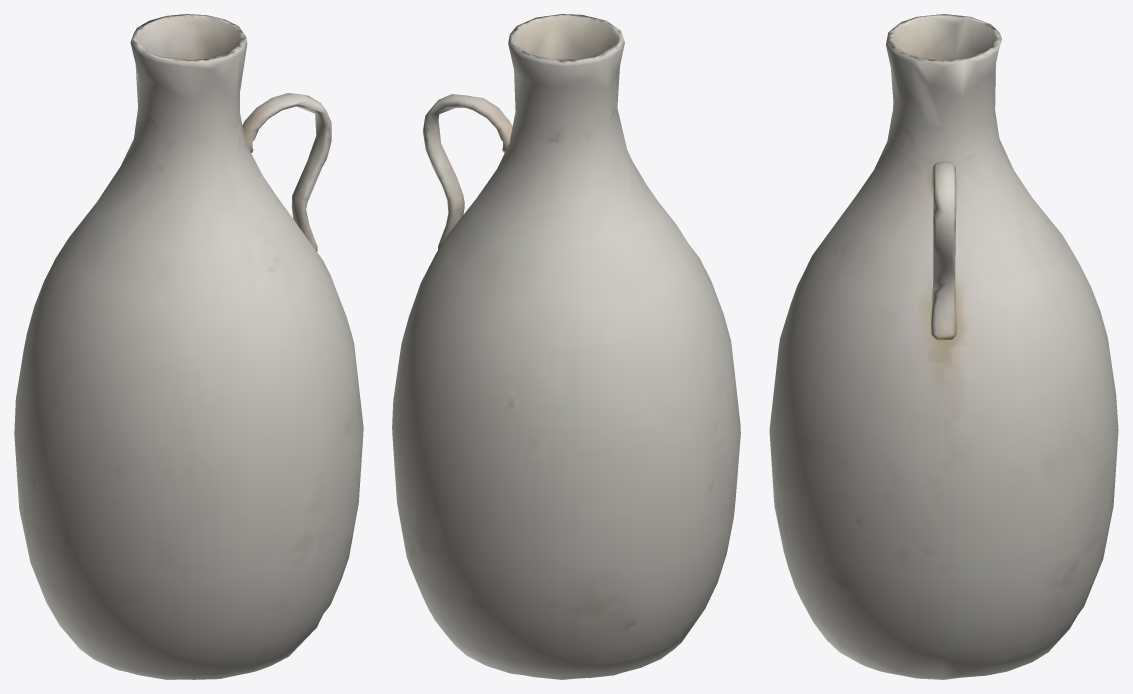
Rendered from ceramic_vase_04.glb.
The picture shows the model from 3 angles, left to right: view 1: azimuth 30°, elevation 25°; view 2: azimuth 150°, elevation 25°; view 3: azimuth 270°, elevation 25°; orthographic projection.
Visible parts, largest first — view 1: ceramic_vase_04; view 2: ceramic_vase_04; view 3: ceramic_vase_04.
Part boxes in pixels (x1,y1,x2,y2): ceramic_vase_04: (14,14,363,679); ceramic_vase_04: (392,14,740,679); ceramic_vase_04: (769,14,1118,679).
Size of the model in its own units: 0.1811 by 0.3413 by 0.1811.
Materials: 1 (1 with a texture image).
